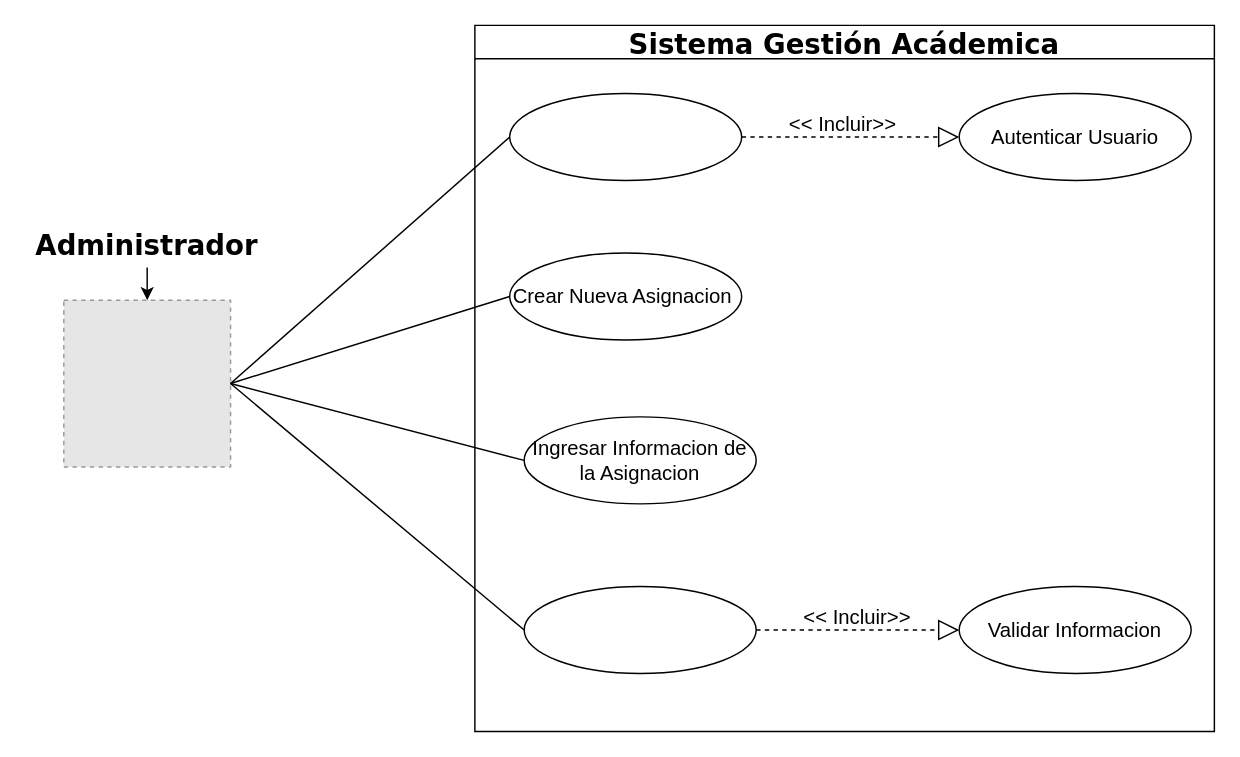
Some shapes in this 1240 by 757 pixel diagram are drawn without their labels. Grey dashed boxes stand in for pictures. Each missing label, with the centre of its shape:
Guardar Informacion: the point at 639,629
Ingresar al Sistema: the point at 625,136
